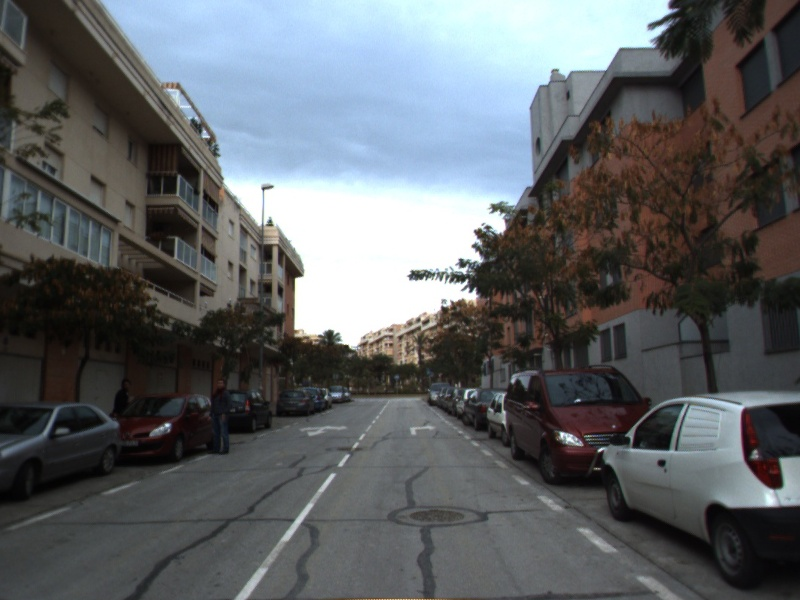RIGHT: (408, 422, 438, 436)
